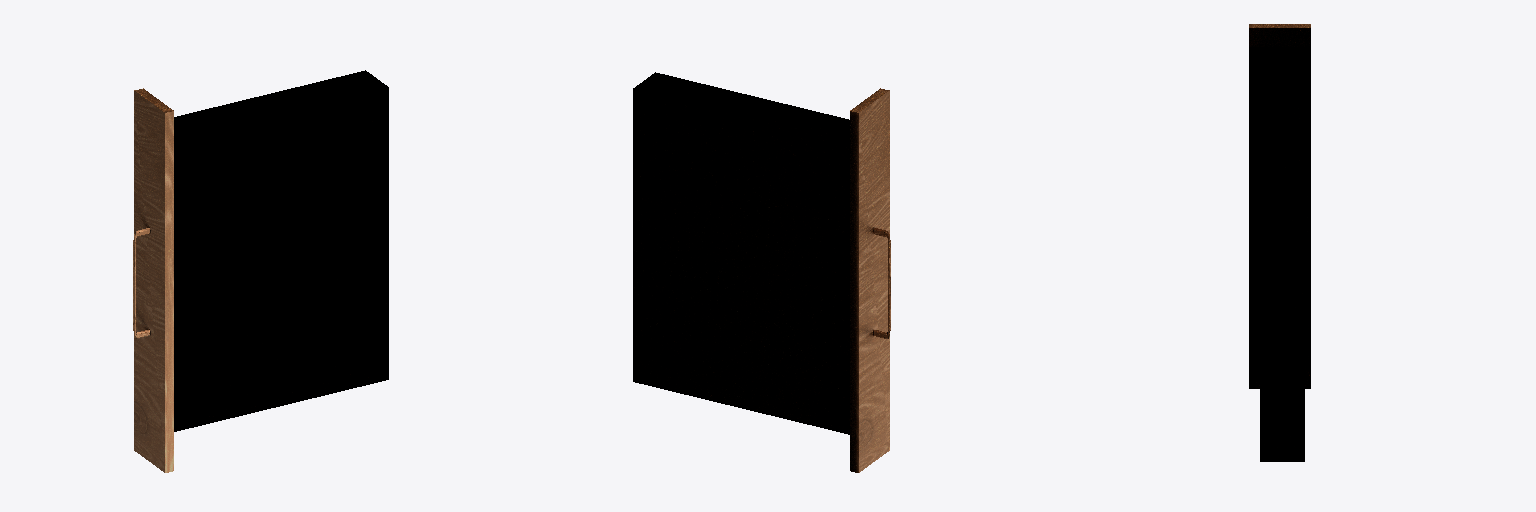
3 renders of one model, left to right at view 1: azimuth 30°, elevation 25°; view 2: azimuth 150°, elevation 25°; view 3: azimuth 270°, elevation 25°, orthographic.
Parts seen in each view (by area): view 1: free_13_cabinet_floor_dof_rootd_Aa001_t; view 2: free_13_cabinet_floor_dof_rootd_Aa001_t; view 3: free_13_cabinet_floor_dof_rootd_Aa001_t.
Boxes of the visible parts, <box> form: free_13_cabinet_floor_dof_rootd_Aa001_t: <box>133,70,388,472</box>; free_13_cabinet_floor_dof_rootd_Aa001_t: <box>633,72,890,472</box>; free_13_cabinet_floor_dof_rootd_Aa001_t: <box>1249,24,1310,461</box>.
Size of the model in its own units: 0.582 by 0.8174 by 0.1267.
1 materials, 1 textured.